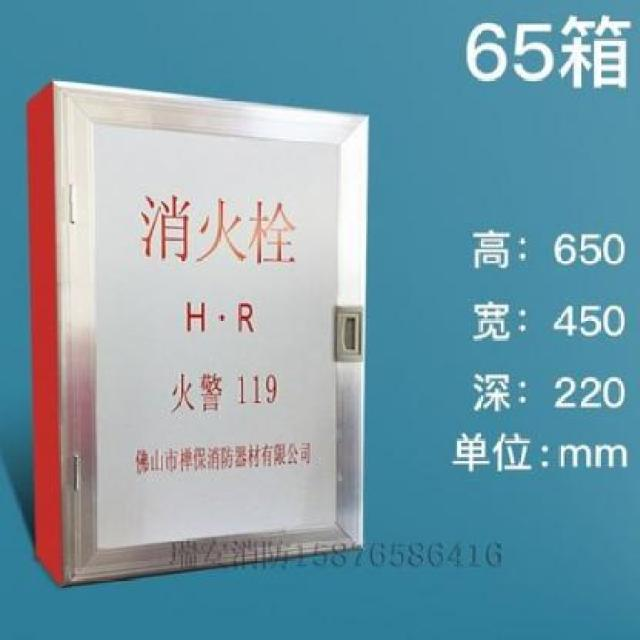firehydrant: (23, 76, 373, 592)
